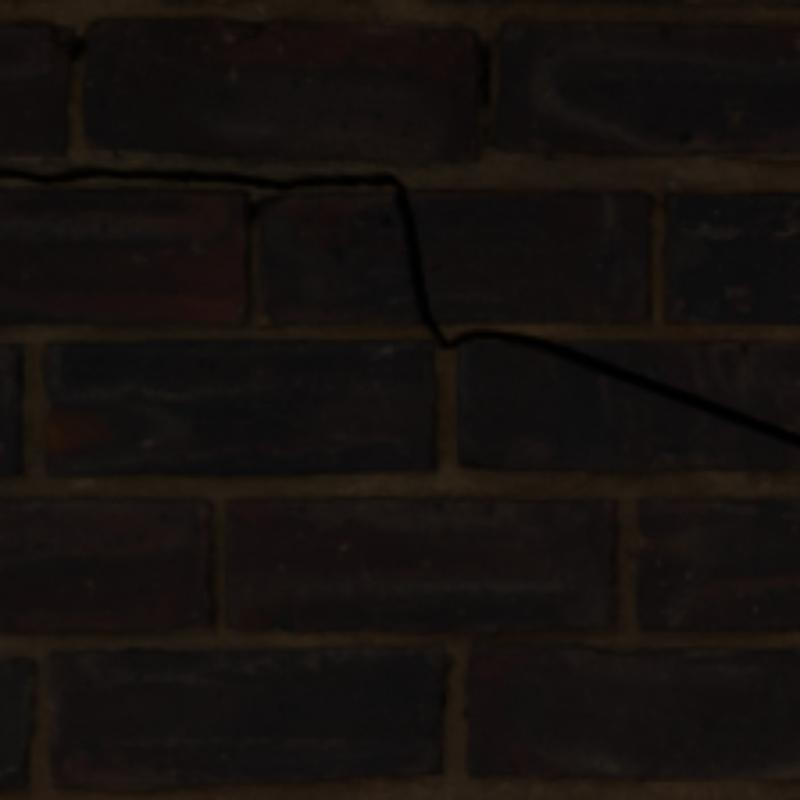crack: (0, 164, 796, 443)
